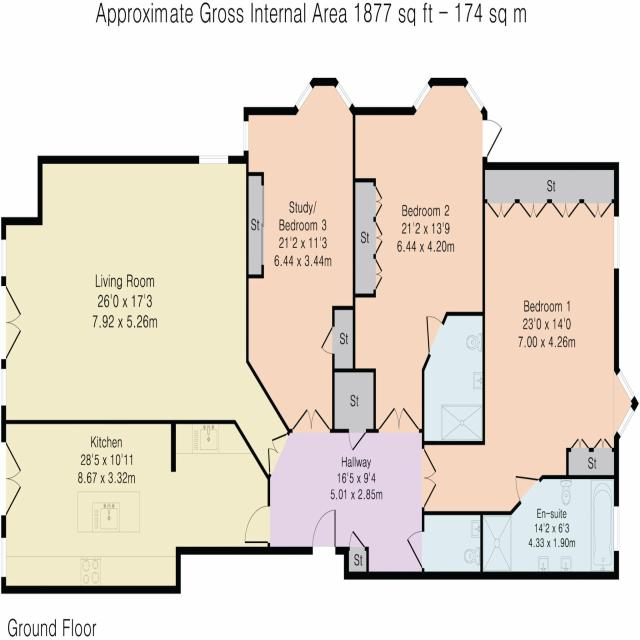DOOR: (243, 505, 271, 545), (312, 509, 336, 555), (425, 314, 445, 357), (482, 118, 503, 158), (515, 475, 541, 505), (406, 530, 425, 569)
DOUBLE DOOR: (1, 434, 26, 527), (1, 276, 25, 368), (289, 402, 334, 434), (420, 444, 440, 514), (376, 404, 422, 433), (266, 431, 291, 476)
ROOM: (0, 154, 290, 479), (422, 162, 639, 516), (352, 77, 503, 433), (1, 419, 270, 594), (242, 77, 355, 433)
WINDOW: (615, 368, 640, 439), (464, 80, 485, 113), (295, 82, 314, 112), (413, 82, 432, 112), (335, 81, 353, 111), (613, 215, 620, 271), (198, 154, 229, 165), (613, 506, 620, 553), (0, 536, 7, 579), (0, 238, 7, 278), (0, 367, 7, 407), (243, 120, 249, 152)
